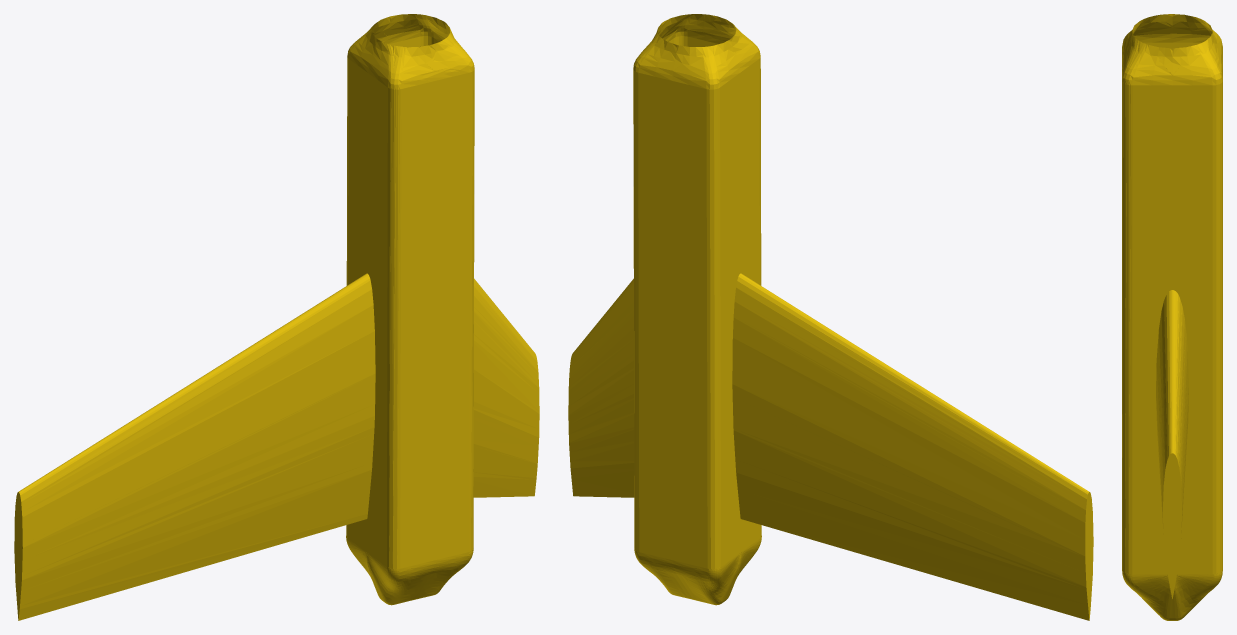
The model's file is rearRot.dae.
3 views of the same model, side by side, from view 1: azimuth 30°, elevation 25°; view 2: azimuth 150°, elevation 25°; view 3: azimuth 270°, elevation 25° (orthographic). The views are drawn at different scales.
Visible parts, largest first — view 1: rotorCm4; view 2: rotorCm4; view 3: rotorCm4.
Part boxes in pixels (<box>): rotorCm4: <box>14,14,539,620</box>; rotorCm4: <box>568,14,1093,620</box>; rotorCm4: <box>1122,14,1222,620</box>.
Bounding box in the file's own units: 0.3022 × 0.05 × 0.3173.
